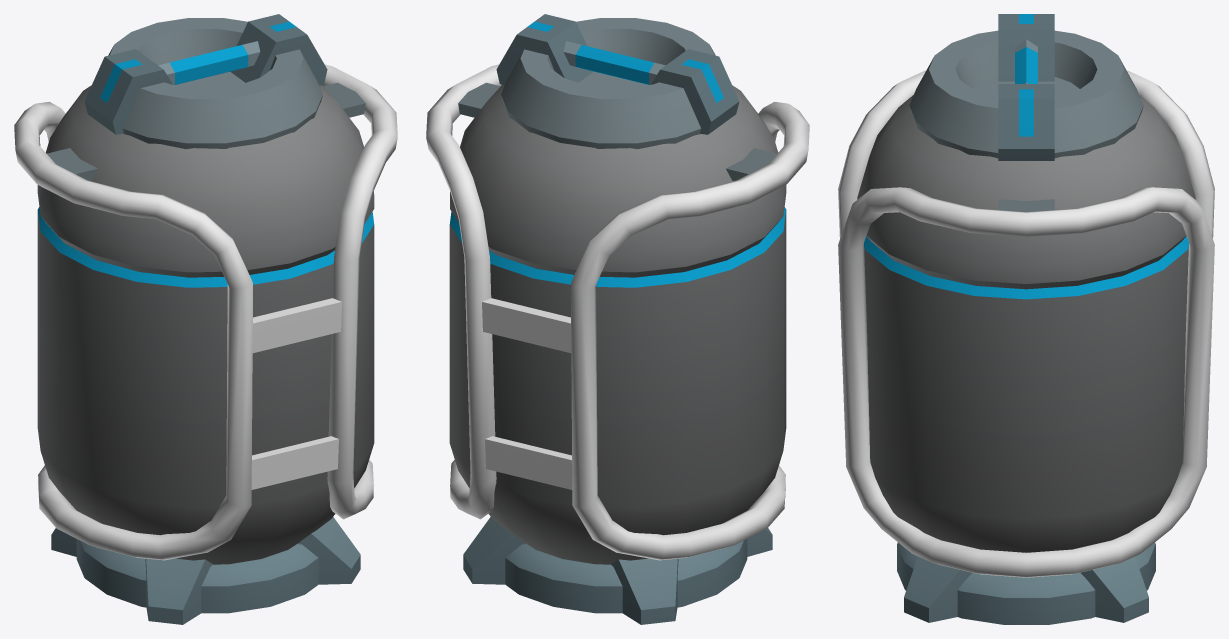
Rendered from Barrel_004.fbx.
3 renders of one model, left to right at view 1: azimuth 30°, elevation 25°; view 2: azimuth 150°, elevation 25°; view 3: azimuth 270°, elevation 25°, orthographic.
Parts seen in each view (by area): view 1: Barrel_004; view 2: Barrel_004; view 3: Barrel_004.
Part boxes in pixels (box(x1,y1,x2,y2)): Barrel_004: box(14, 14, 397, 624); Barrel_004: box(426, 14, 809, 624); Barrel_004: box(838, 14, 1214, 624).
Size of the model in its own units: 69.85 by 66.76 by 101.
